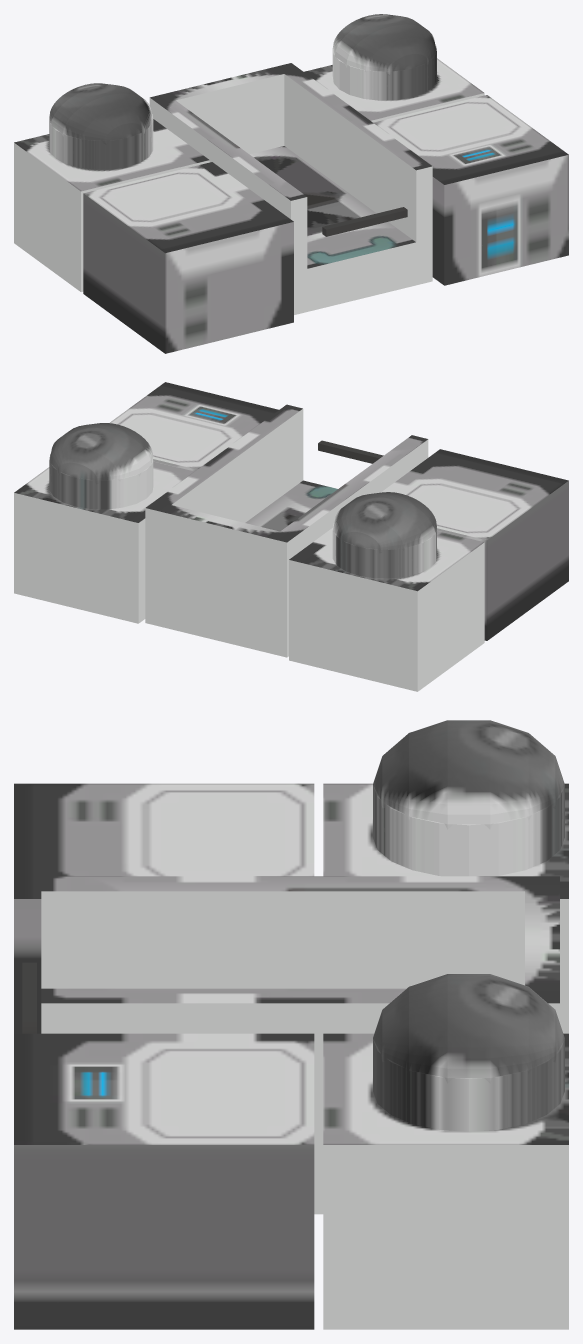
The model's file is Building_BiosculpterPod.glb.
3 renders of one model, top to bottom at view 1: azimuth 30°, elevation 25°; view 2: azimuth 150°, elevation 25°; view 3: azimuth 270°, elevation 25°, orthographic. The views are drawn at different scales.
Parts seen in each view (by area): view 1: BiosculpterPod; view 2: BiosculpterPod; view 3: BiosculpterPod.
Boxes of the visible parts, box(x1,y1,x2,y2) form: BiosculpterPod: box(14, 14, 568, 353); BiosculpterPod: box(14, 382, 568, 691); BiosculpterPod: box(14, 720, 568, 1329).
Size of the model in its own units: 2.94 by 1.09 by 1.91.
Materials: 1 (1 with a texture image).
